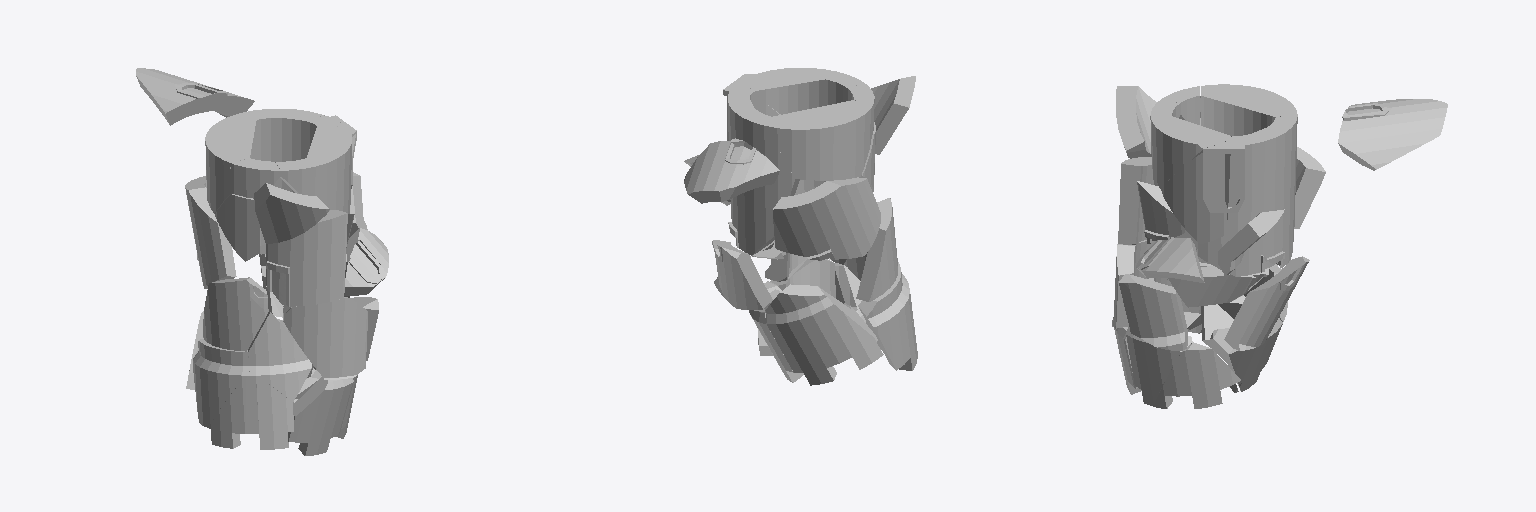
Rendered from destruction_tower_000037.obj.
The picture shows the model from 3 angles: view 1: azimuth 30°, elevation 25°; view 2: azimuth 150°, elevation 25°; view 3: azimuth 270°, elevation 25°; orthographic projection.
Visible parts, largest first — view 1: tower.001_cell.024_Mesh.024, tower.001_cell.021_Mesh.021, tower.001_cell.006_Mesh.006, tower.001_cell.028_Mesh.028, tower.001_cell.009_Mesh.009, tower.001_cell.011_Mesh.011, tower.001_cell.025_Mesh.025, tower.001_cell.013_Mesh.013, tower.001_cell.005_Mesh.005, tower.001_cell.015_Mesh.015, tower.001_cell.002_Mesh.002, tower.001_cell.003_Mesh.003 (+7 smaller); view 2: tower.001_cell.007_Mesh.007, tower.001_cell.003_Mesh.003, tower.001_cell.015_Mesh.015, tower.001_cell.017_Mesh.017, tower.001_cell.025_Mesh.025, tower.001_cell.028_Mesh.028, tower.001_cell.005_Mesh.005, tower.001_cell.012_Mesh.012, tower.001_cell.009_Mesh.009, tower.001_cell.002_Mesh.002, tower.001_cell.023_Mesh.023, tower.001_cell.029_Mesh.029 (+3 smaller); view 3: tower.001_cell.025_Mesh.025, tower.001_cell.017_Mesh.017, tower.001_cell.020_Mesh.020, tower.001_cell_Mesh, tower.001_cell.015_Mesh.015, tower.001_cell.028_Mesh.028, tower.001_cell.012_Mesh.012, tower.001_cell.030_Mesh.030, tower.001_cell.002_Mesh.002, tower.001_cell.027_Mesh.027, tower.001_cell.010_Mesh.010, tower.001_cell.024_Mesh.024 (+11 smaller).
Part boxes in pixels (left/top/right/bottom): tower.001_cell.024_Mesh.024: left=266, top=210, right=347, bottom=306; tower.001_cell.021_Mesh.021: left=283, top=297, right=367, bottom=379; tower.001_cell.006_Mesh.006: left=209, top=373, right=293, bottom=449; tower.001_cell.028_Mesh.028: left=275, top=126, right=356, bottom=210; tower.001_cell.009_Mesh.009: left=203, top=277, right=268, bottom=351; tower.001_cell.011_Mesh.011: left=288, top=377, right=353, bottom=455; tower.001_cell.025_Mesh.025: left=136, top=68, right=254, bottom=125; tower.001_cell.013_Mesh.013: left=248, top=312, right=311, bottom=402; tower.001_cell.005_Mesh.005: left=193, top=339, right=249, bottom=427; tower.001_cell.015_Mesh.015: left=205, top=113, right=256, bottom=213; tower.001_cell.002_Mesh.002: left=254, top=183, right=329, bottom=243; tower.001_cell.003_Mesh.003: left=185, top=176, right=236, bottom=288; tower.001_cell.007_Mesh.007: left=765, top=284, right=883, bottom=385; tower.001_cell.003_Mesh.003: left=773, top=177, right=880, bottom=260; tower.001_cell.015_Mesh.015: left=767, top=100, right=872, bottom=180; tower.001_cell.017_Mesh.017: left=728, top=94, right=799, bottom=255; tower.001_cell.025_Mesh.025: left=684, top=138, right=779, bottom=203; tower.001_cell.028_Mesh.028: left=744, top=68, right=862, bottom=114; tower.001_cell.005_Mesh.005: left=858, top=262, right=912, bottom=370; tower.001_cell.012_Mesh.012: left=712, top=240, right=772, bottom=309; tower.001_cell.009_Mesh.009: left=856, top=198, right=897, bottom=301; tower.001_cell.002_Mesh.002: left=871, top=76, right=915, bottom=154; tower.001_cell.023_Mesh.023: left=770, top=259, right=835, bottom=297; tower.001_cell.029_Mesh.029: left=749, top=309, right=801, bottom=382; tower.001_cell.025_Mesh.025: left=1338, top=99, right=1447, bottom=170; tower.001_cell.017_Mesh.017: left=1251, top=114, right=1297, bottom=268; tower.001_cell.020_Mesh.020: left=1161, top=143, right=1230, bottom=243; tower.001_cell_Mesh: left=1119, top=274, right=1187, bottom=350; tower.001_cell.015_Mesh.015: left=1201, top=84, right=1296, bottom=135; tower.001_cell.028_Mesh.028: left=1150, top=101, right=1231, bottom=188; tower.001_cell.012_Mesh.012: left=1224, top=256, right=1309, bottom=350; tower.001_cell.030_Mesh.030: left=1153, top=342, right=1240, bottom=408; tower.001_cell.002_Mesh.002: left=1116, top=86, right=1156, bottom=158; tower.001_cell.027_Mesh.027: left=1168, top=266, right=1268, bottom=307; tower.001_cell.010_Mesh.010: left=1136, top=237, right=1204, bottom=282; tower.001_cell.024_Mesh.024: left=1118, top=157, right=1153, bottom=244.
Bounding box in the file's own units: 63.28 × 90.29 × 97.68.